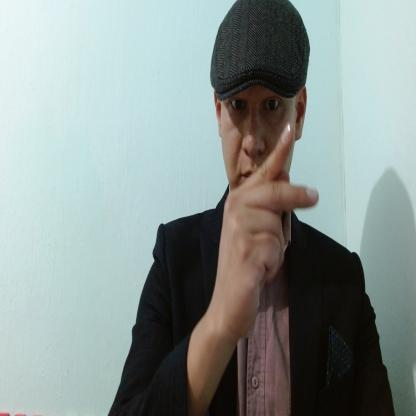P: (214, 122, 322, 336)
